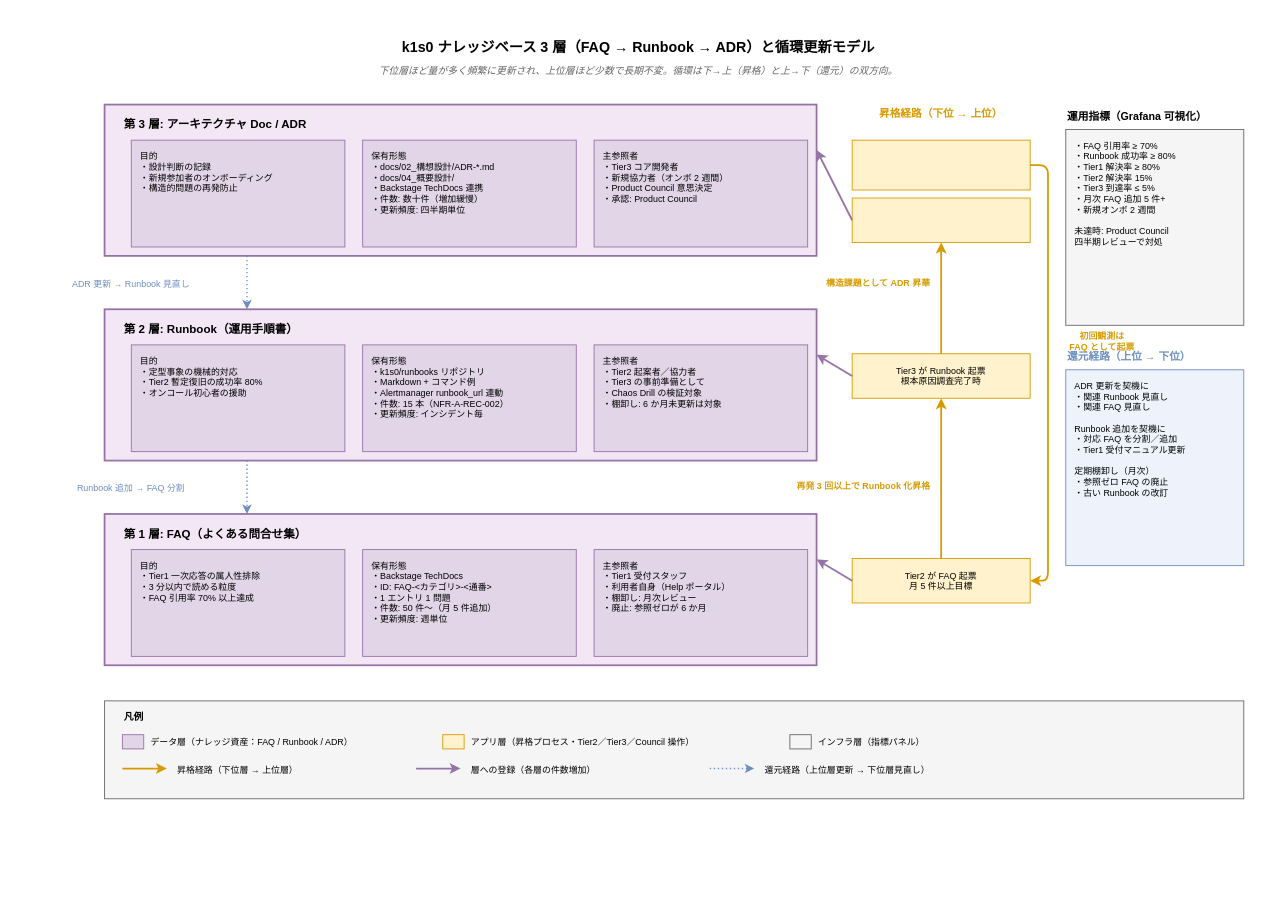
The diagram is 1276 pixels wide and 920 high, and some of its shapes have lost their labels. The centre of each missing label's shape, as x and y in pixels:
"Product Council 承認 ADR 発行" belongs at point 940,220.
"インシデント ／新種事象発生" belongs at point 940,164.
